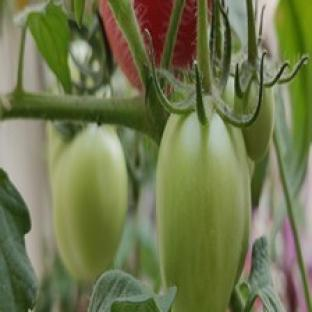Tomato: (156, 113, 250, 311), (49, 126, 128, 281), (243, 88, 274, 161)
